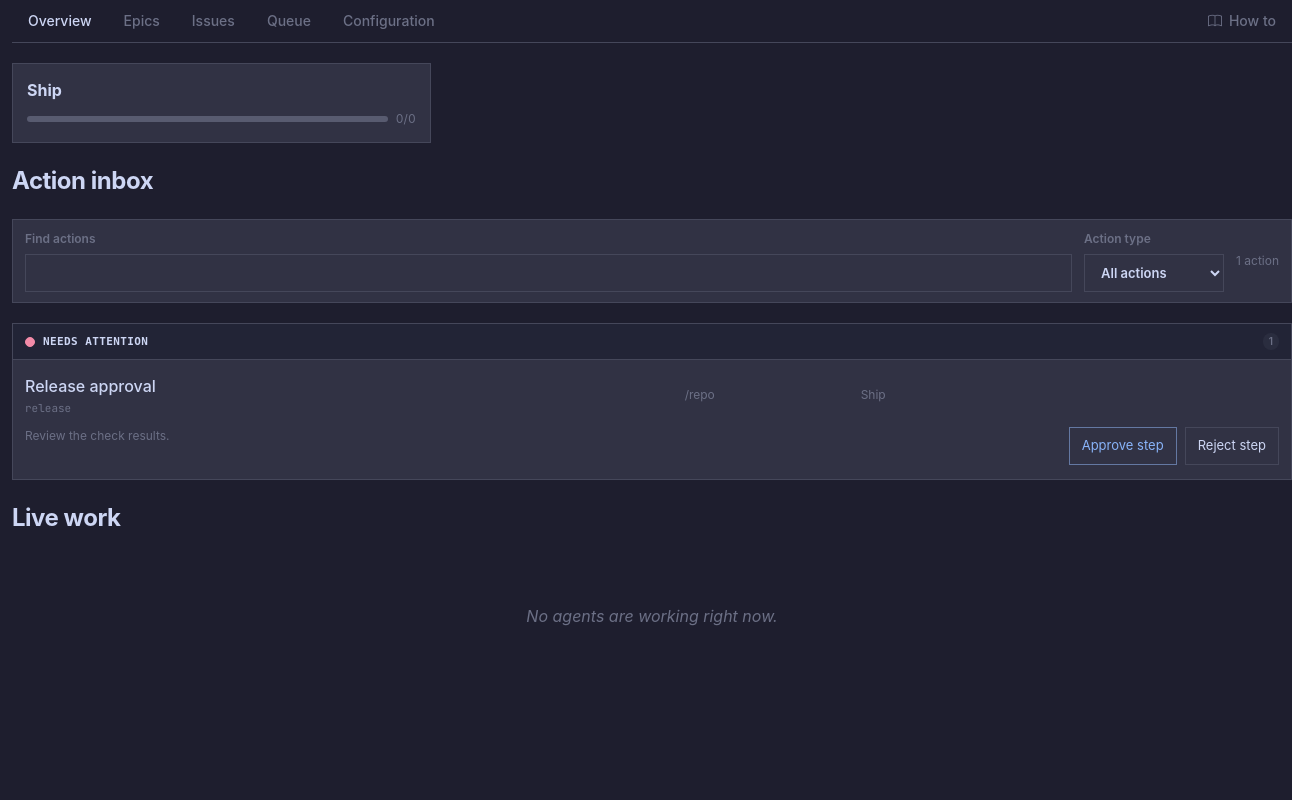
Factory interactions › offers user decisions for a ready workflow approval
Click the button "Approve step" at (1123, 446), box [1069, 427, 1177, 465]
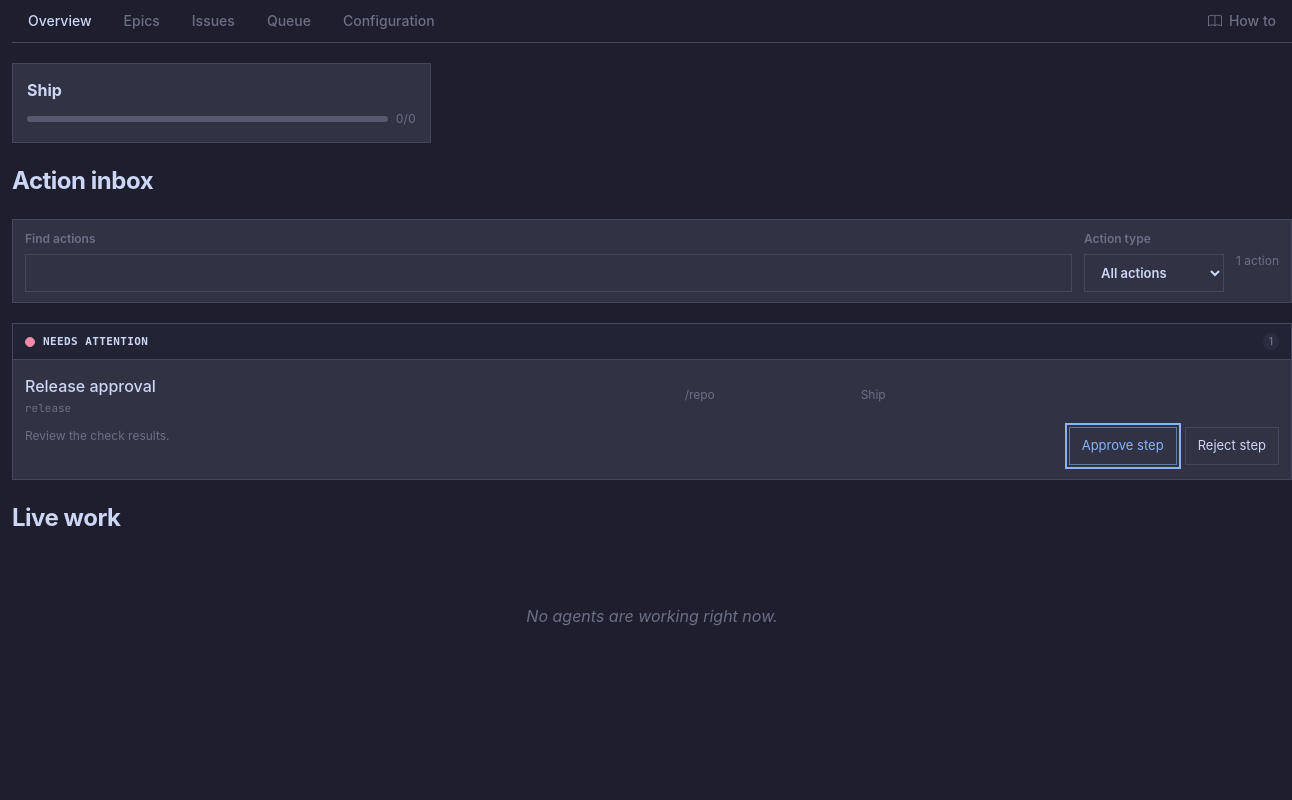
Click the button "Reject step" at (1232, 446), box [1185, 427, 1279, 465]
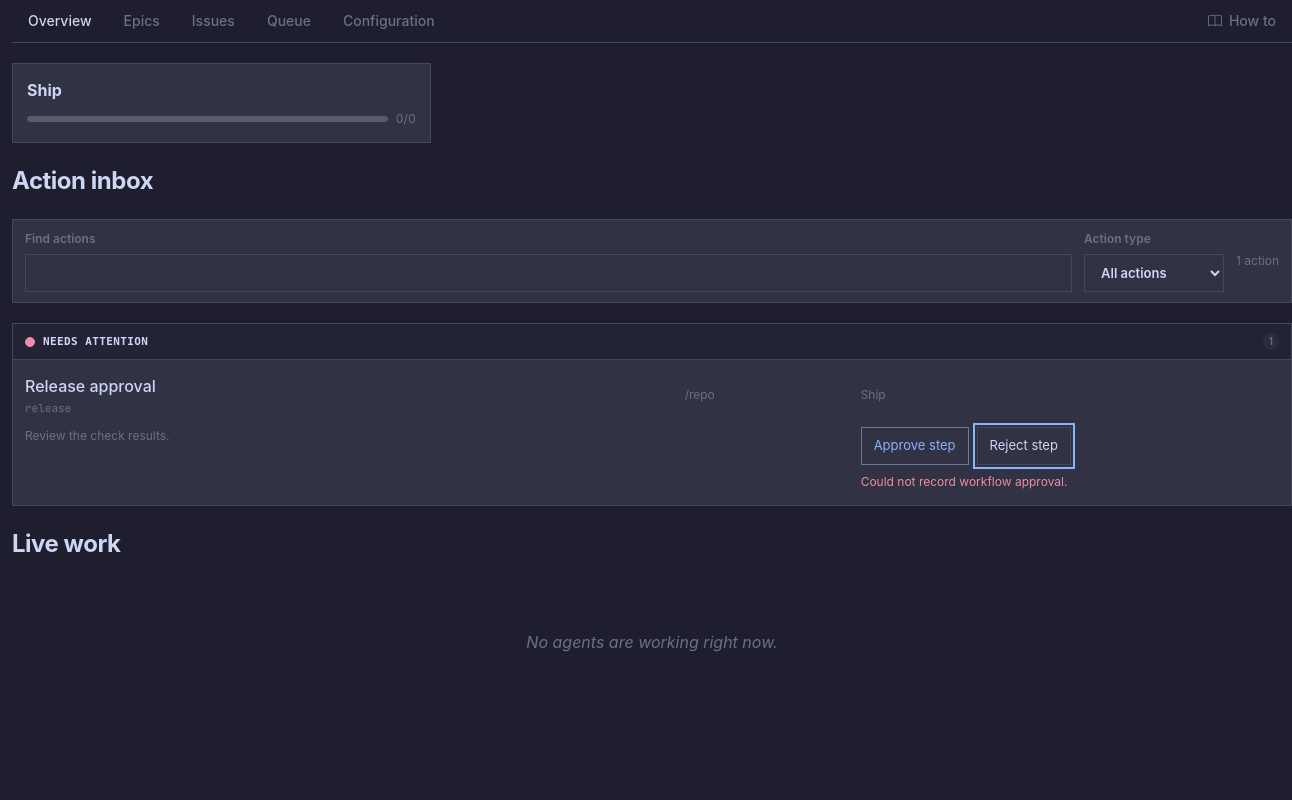
Now the message shows "Could not record workflow approval", box [861, 474, 1067, 489]
